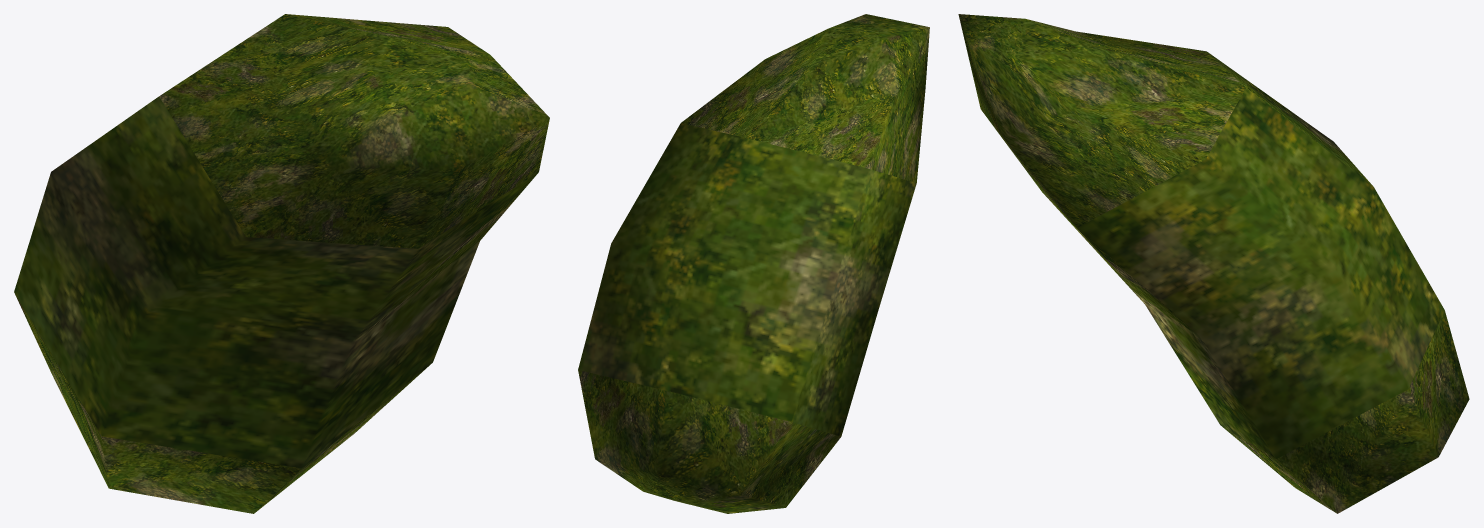
File: OVERHILL_A_01_ROCK_BRIDGE02.fbx
3 renders of one model, left to right at view 1: azimuth 30°, elevation 25°; view 2: azimuth 150°, elevation 25°; view 3: azimuth 270°, elevation 25°, orthographic. The views are drawn at different scales.
Visible parts, largest first — view 1: OVERHILL_A_01_ROCK_BRIDGE02; view 2: OVERHILL_A_01_ROCK_BRIDGE02; view 3: OVERHILL_A_01_ROCK_BRIDGE02.
Boxes of the visible parts, x1,y1,x2,y2 form: OVERHILL_A_01_ROCK_BRIDGE02: (14, 14, 549, 513); OVERHILL_A_01_ROCK_BRIDGE02: (578, 14, 929, 513); OVERHILL_A_01_ROCK_BRIDGE02: (958, 14, 1469, 513).
Size of the model in its own units: 13647 by 22153 by 22956.
Materials: 1 (1 with a texture image).
